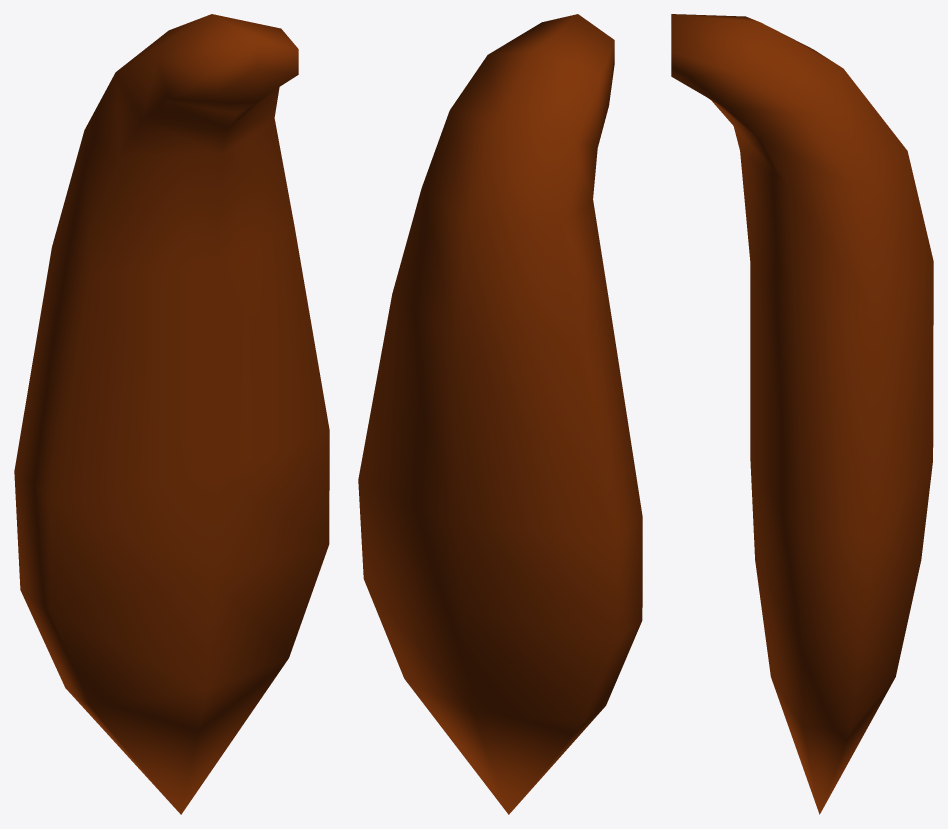
Rendered from ponytail_pink_g1.fbx.
3 views of the same model, side by side, from view 1: azimuth 30°, elevation 25°; view 2: azimuth 150°, elevation 25°; view 3: azimuth 270°, elevation 25° (orthographic). The views are drawn at different scales.
Visible parts, largest first — view 1: ponytail; view 2: ponytail; view 3: ponytail.
Boxes of the visible parts, <box> form: ponytail: <box>14,14,329,814</box>; ponytail: <box>358,14,642,814</box>; ponytail: <box>671,14,933,814</box>.
Size of the model in its own units: 0.1451 by 0.4137 by 0.1229.
